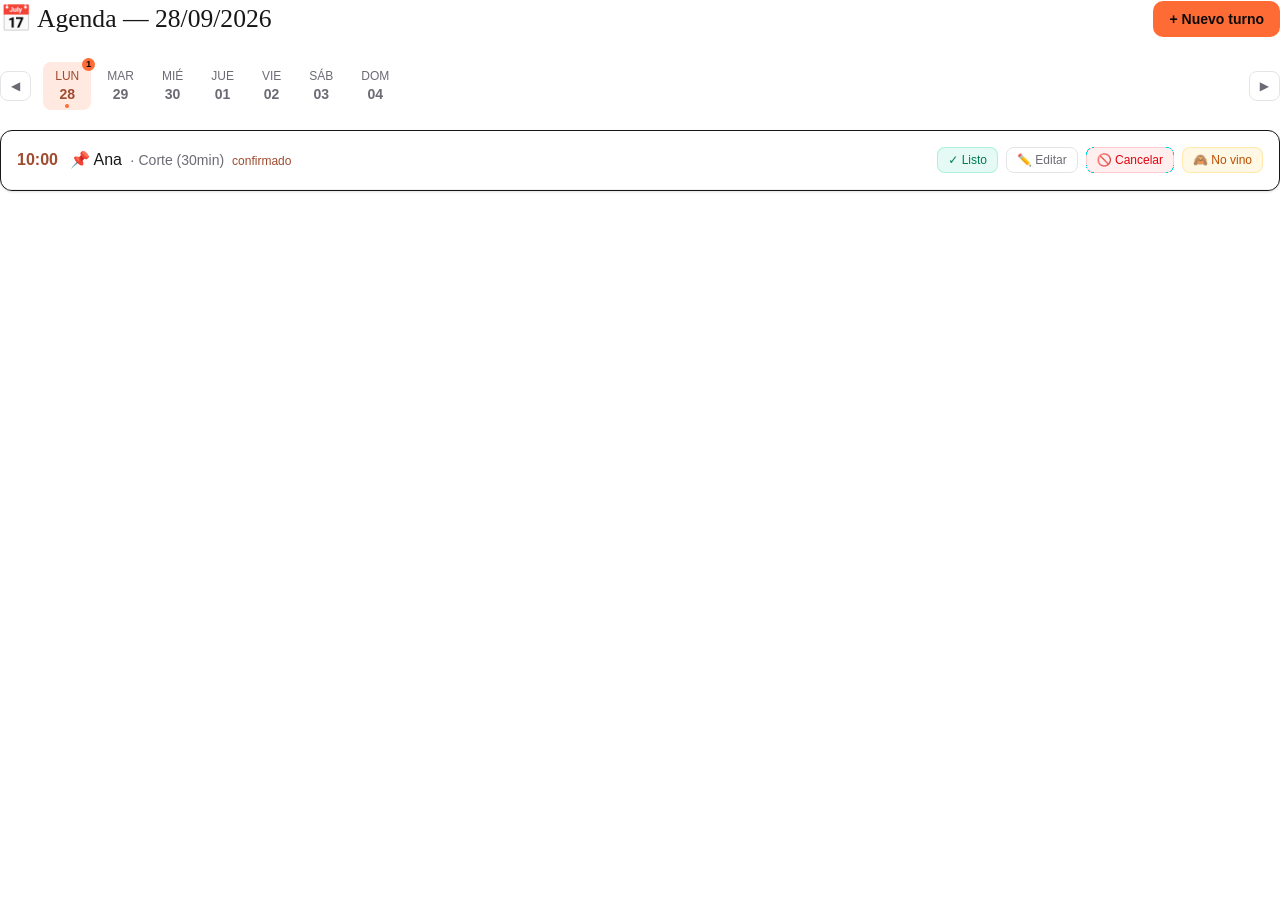
Test: TurnosAgenda (#190 · ABM por estado) › 'Editar' abre el modal en modo edición con los datos del turno
The image size is (1280, 900).
Click the button with aria-label "Editar turno": click(1042, 160) x1=1006 y1=147 x2=1078 y2=173
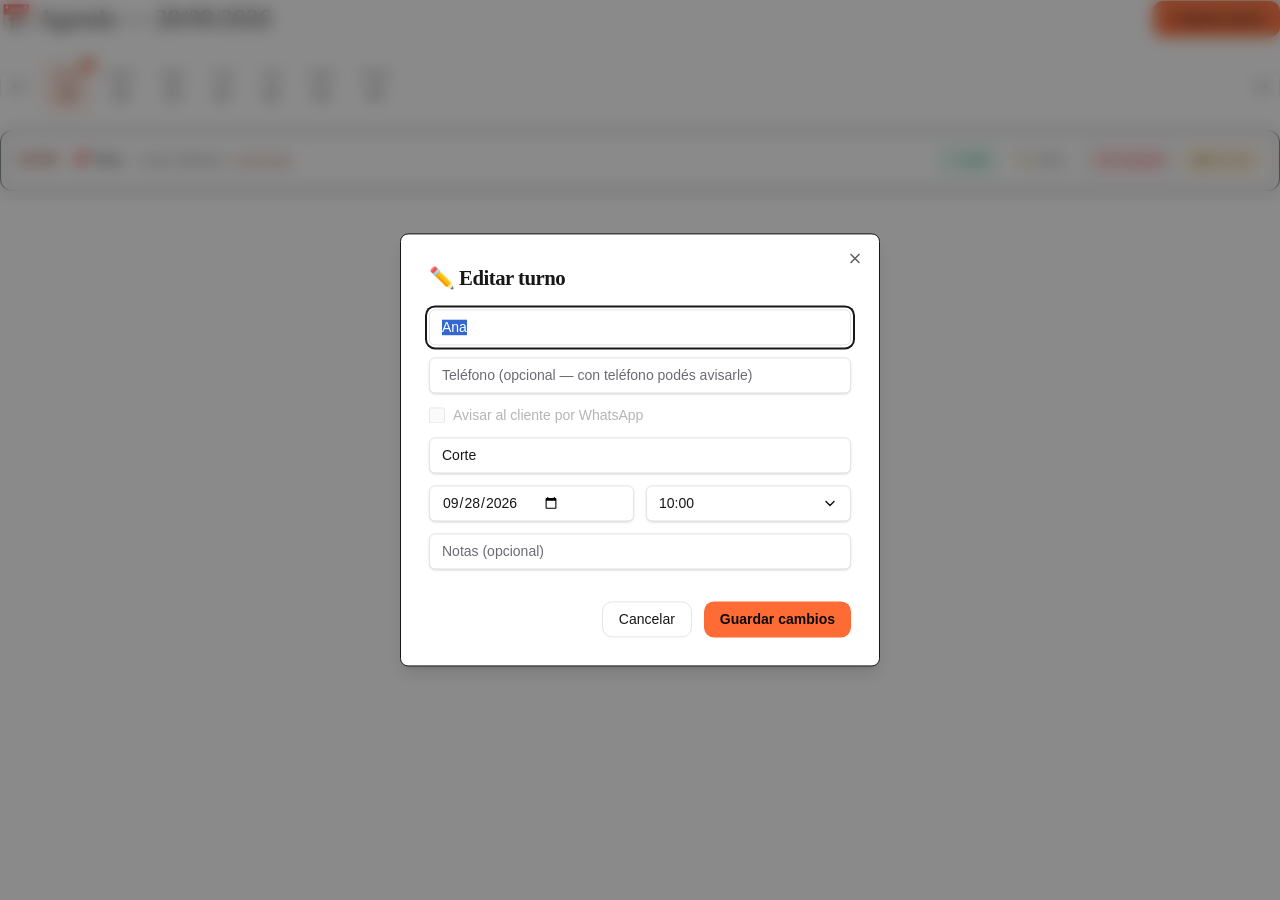
Result: the heading "✏️ Editar turno" is shown at x1=429 y1=266 x2=565 y2=289
Result: the 1st field showing "Ana" is shown at x1=429 y1=310 x2=851 y2=346
Result: the button "Guardar cambios" is shown at x1=704 y1=602 x2=851 y2=638
